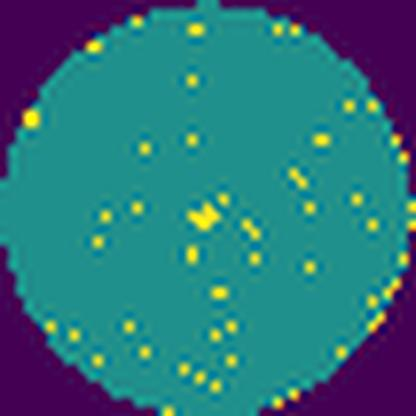Center: (184, 201, 224, 231)
